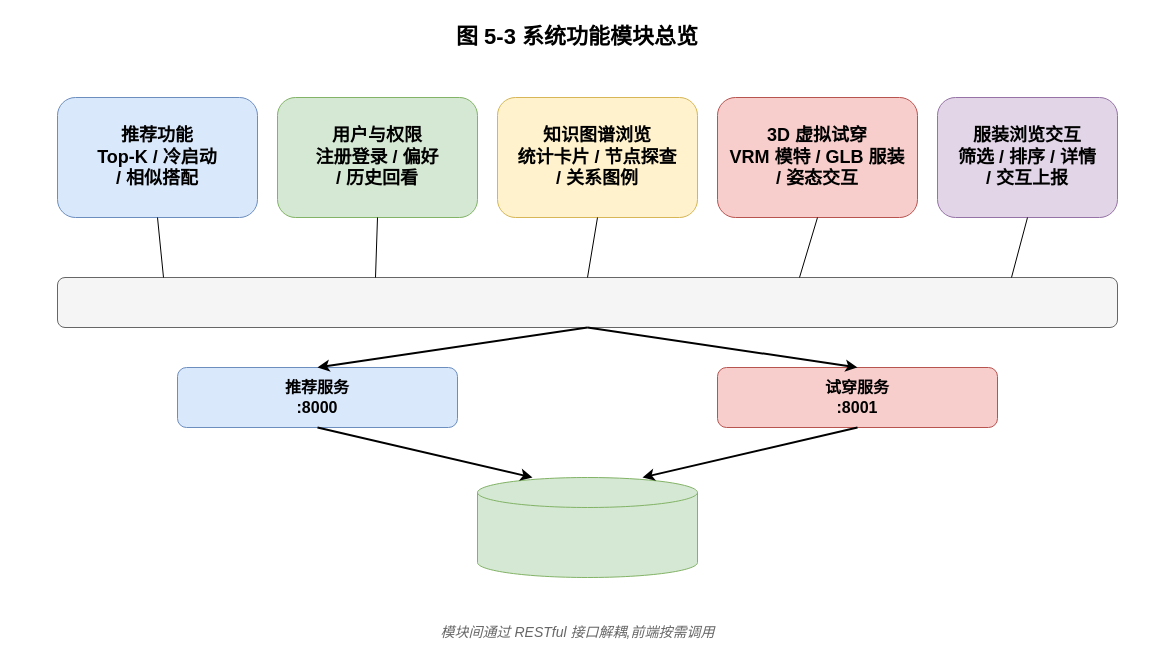
The diagram is 1154 pixels wide and 664 high, and some of its shapes have lost their labels. Each missing label, with the box of its shape:
Neo4j 知识图谱: (476, 476, 698, 578)
前端 React 单页应用: (56, 276, 1118, 328)
